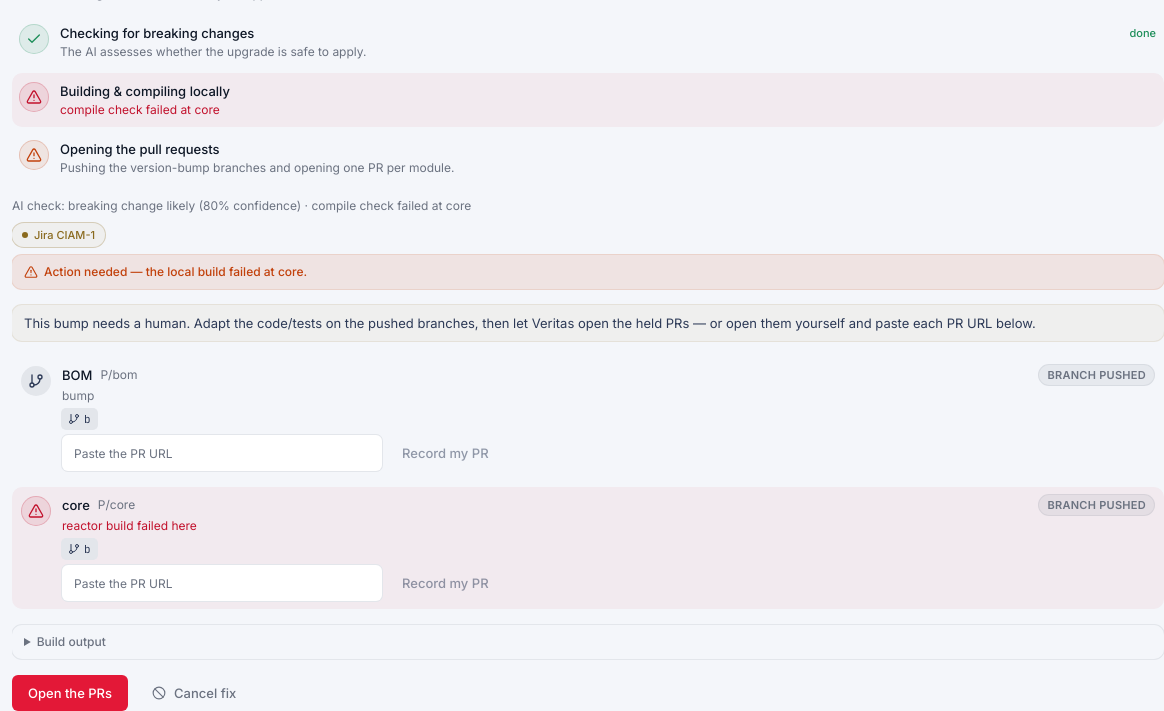
Test: Snyk fix deep-link (Activity row → live, actionable progress) › resolves a waiting train from the deep-link: opening the held PRs advances it
(page scrolled)
Click the button "Open the PRs" at (70, 693), box [12,675,128,710]
(page scrolled)
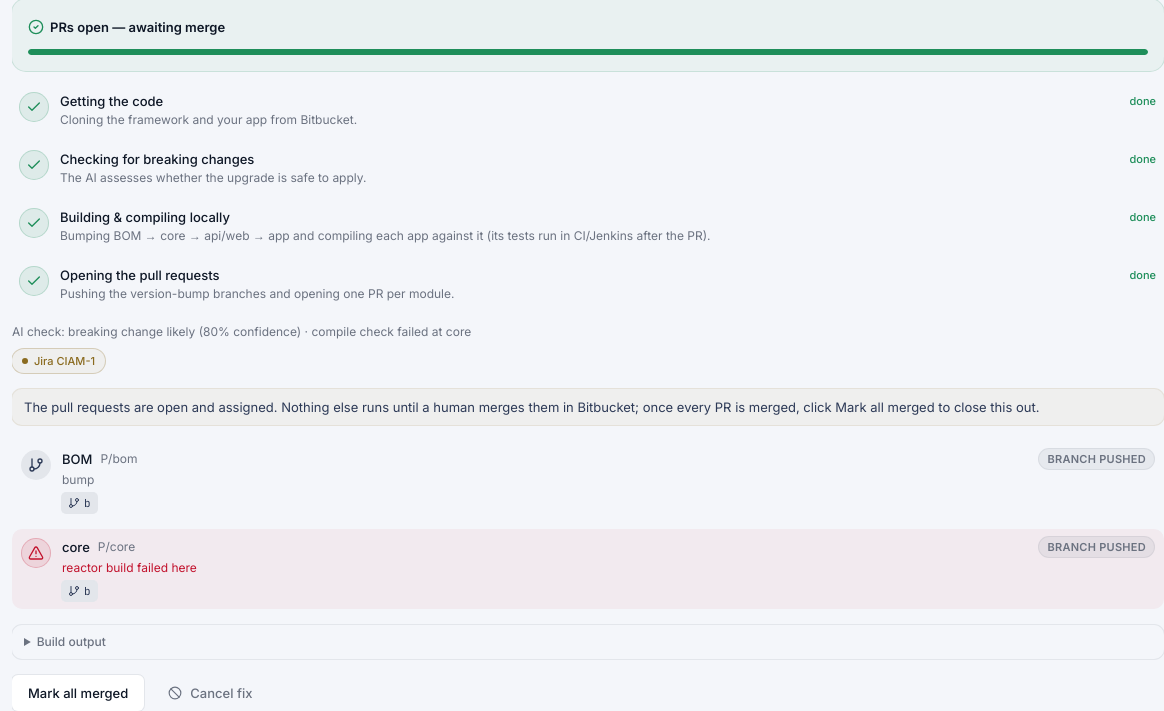
Now the button "Mark all merged" is shown, box [12,675,144,710]
